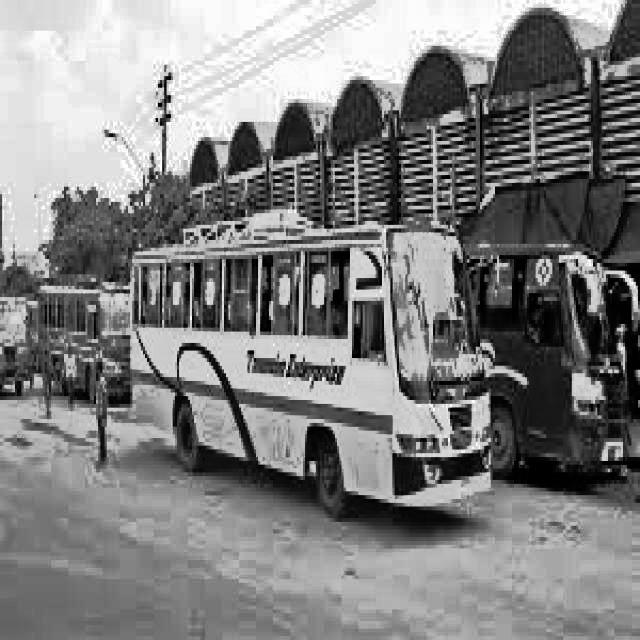Bus: (127, 201, 495, 563), (483, 203, 639, 525), (36, 263, 128, 426)
